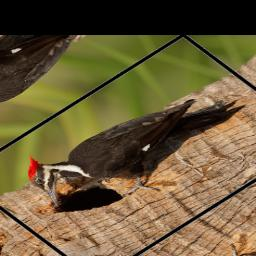Woodpecker: (6, 58, 256, 235)
